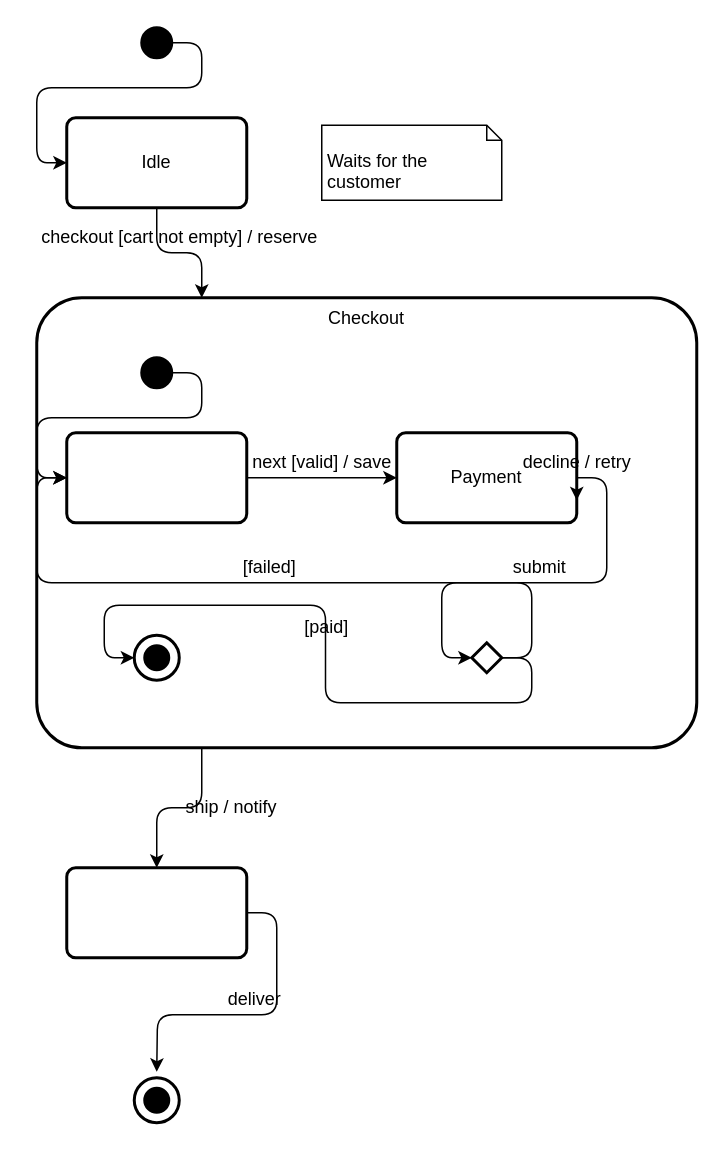
This 725x1149 diagram has some shape labels left out. The centre of each missing label's shape, as x and y in pixels:
"Address" belongs at pixel 156 477.
"Shipped" belongs at pixel 156 912.
